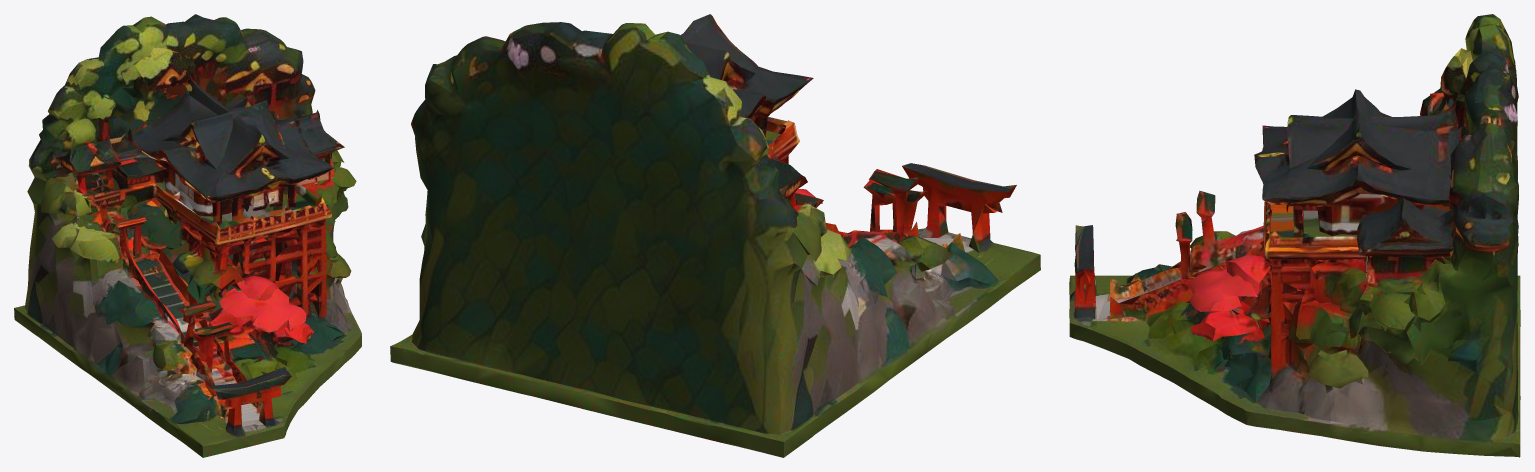
Rendered from yutoku-inari.glb.
3 renders of one model, left to right at view 1: azimuth 30°, elevation 25°; view 2: azimuth 150°, elevation 25°; view 3: azimuth 270°, elevation 25°, orthographic. The views are drawn at different scales.
Visible parts, largest first — view 1: logan-textured.obj; view 2: logan-textured.obj; view 3: logan-textured.obj.
Part boxes in pixels (box(x1,y1,x2,y2)): logan-textured.obj: box(14, 14, 361, 457); logan-textured.obj: box(390, 14, 1040, 457); logan-textured.obj: box(1069, 14, 1520, 457).
Size of the model in its own units: 0.8862 by 0.8192 by 1.
1 material, 1 textured.
